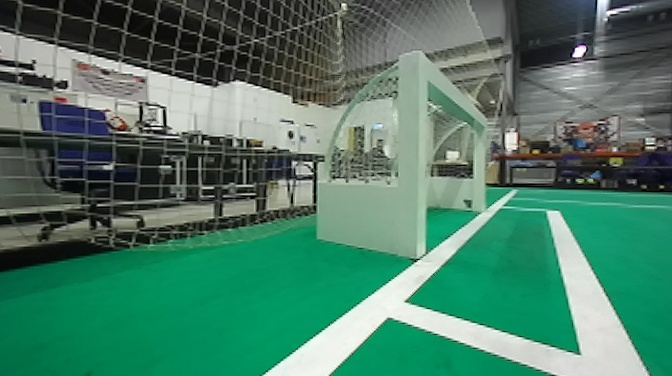goalpost: (397, 49, 420, 263), (468, 113, 487, 213)
